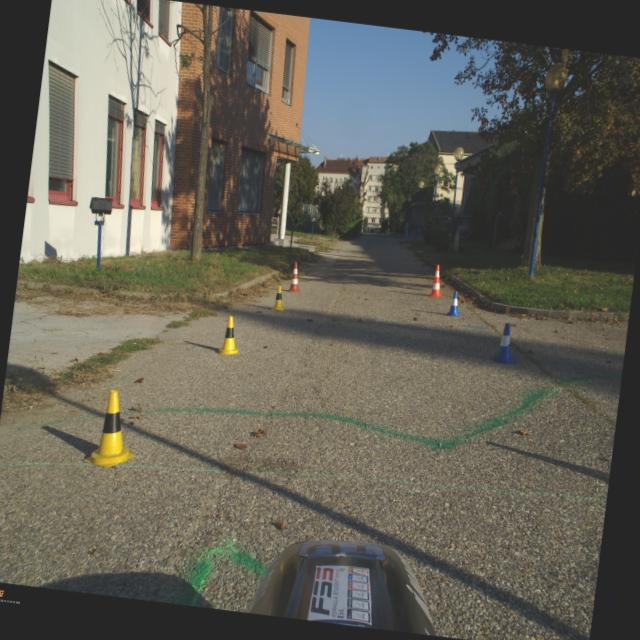blue_cone: (491, 322, 520, 364), (446, 290, 463, 317)
large_orange_cone: (428, 264, 446, 298), (287, 260, 303, 292)
yellow_cone: (83, 387, 142, 470), (217, 314, 243, 356), (270, 284, 288, 312)
